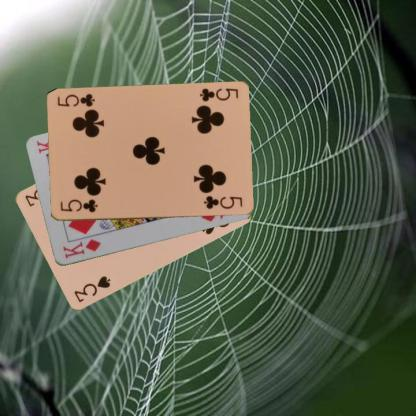3s: (71, 273, 112, 304)
5c: (197, 85, 240, 103), (58, 197, 99, 214)
Kd: (60, 236, 102, 260)
